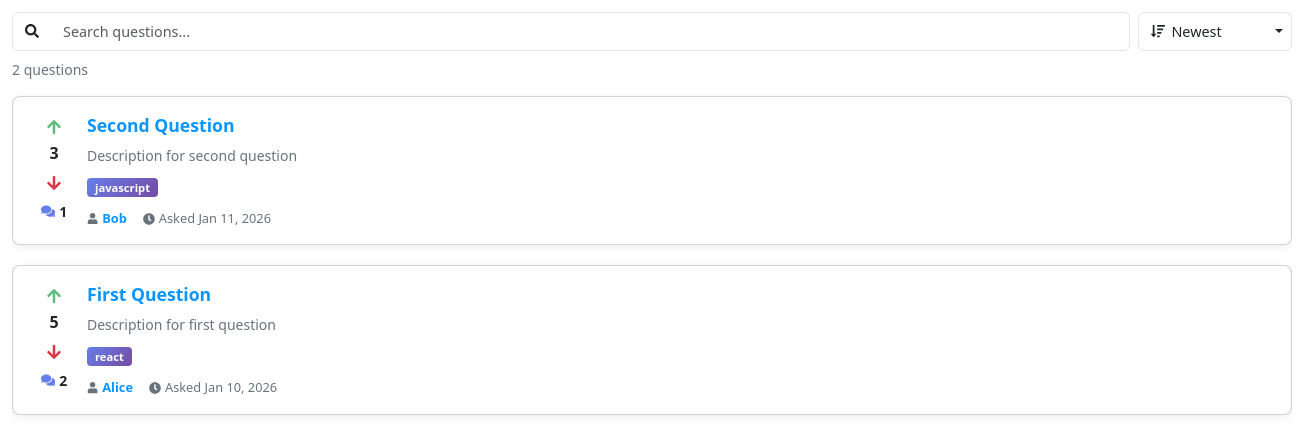
it: QuestionList Component › shows "No questions found" when search has no matches
This screenshot has width=1304, height=433.
Type "xyz-no-match" into the field with placeholder "Search questions..." at (590, 31), box top-left (51, 12), bottom-right (1130, 51)
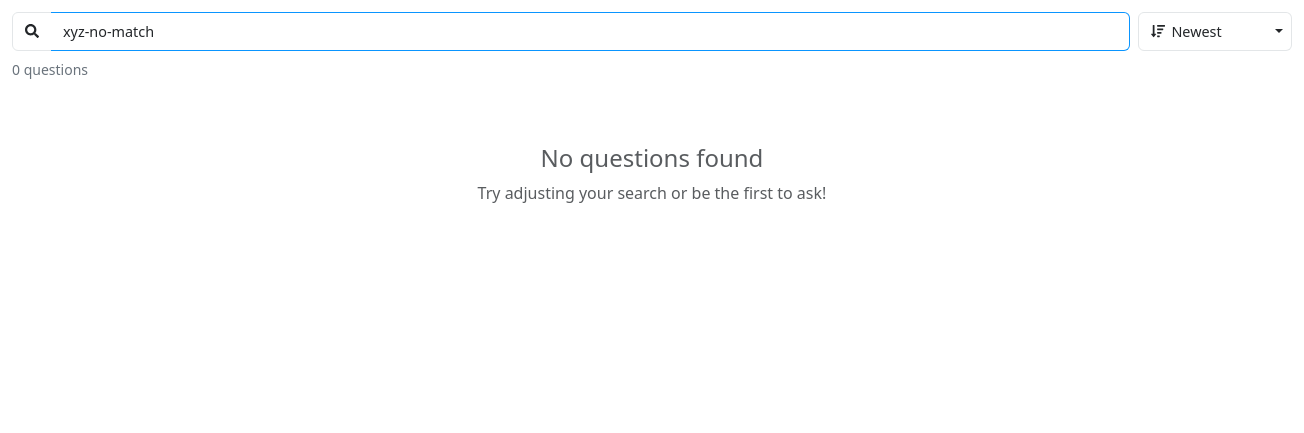
Now the heading "No questions found" is shown, box top-left (541, 141), bottom-right (763, 174)
